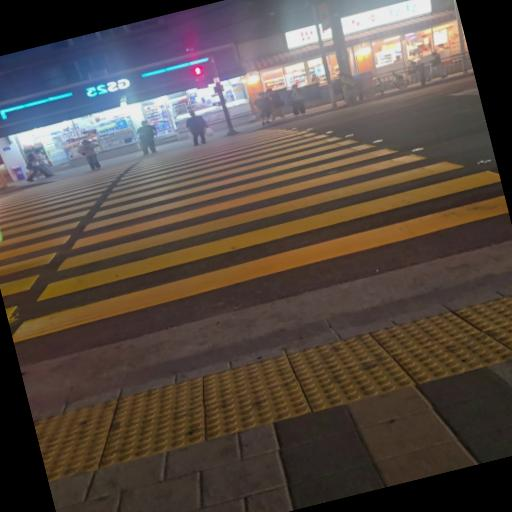yellow-crosswalk: (0, 65, 512, 362)
